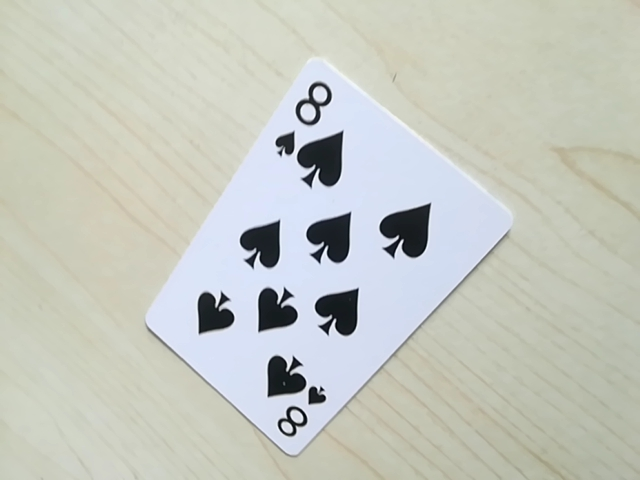ht 8: (268, 68, 338, 173), (265, 387, 329, 450)
